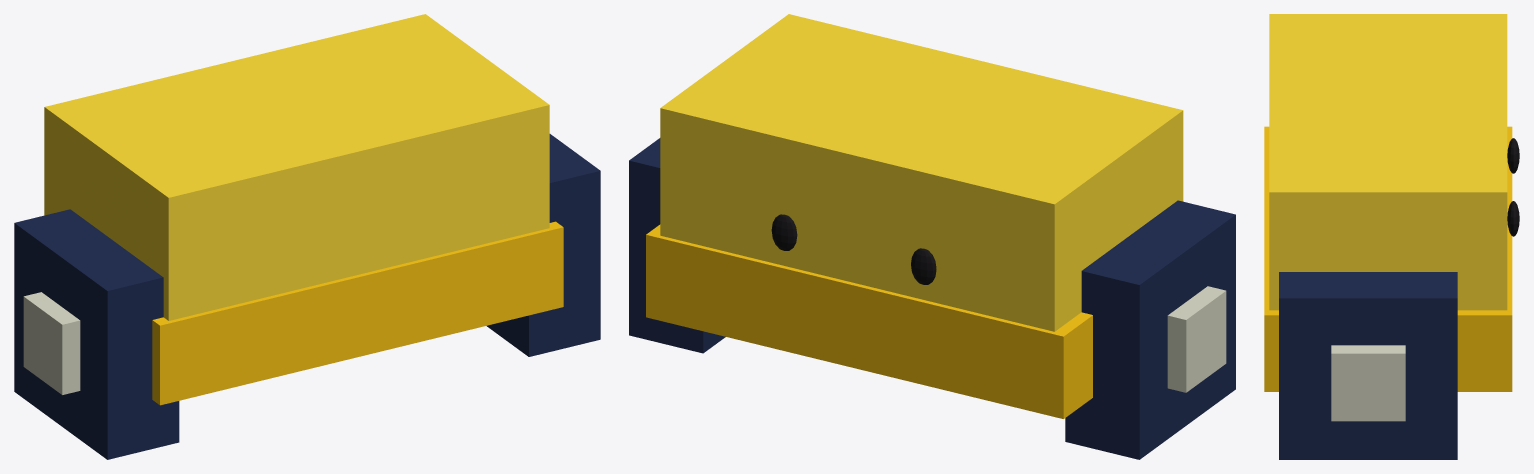
The model's file is Wheelie_Enemy.obj.
The picture shows the model from 3 angles, left to right: view 1: azimuth 30°, elevation 25°; view 2: azimuth 150°, elevation 25°; view 3: azimuth 270°, elevation 25°; orthographic projection. The views are drawn at different scales.
Parts seen in each view (by area): view 1: LowBody, LowChassis, WheelL, WheelR, HubL; view 2: LowBody, LowChassis, WheelL, WheelR, HubL, DotEyeL, DotEyeR; view 3: LowBody, WheelR, LowChassis, HubR, DotEyeL, DotEyeR.
Part boxes in pixels (x1=…): LowBody: x1=44, y1=14, x2=549, y2=320; LowChassis: x1=152, y1=221, x2=563, y2=405; WheelL: x1=14, y1=209, x2=179, y2=459; WheelR: x1=487, y1=134, x2=600, y2=356; HubL: x1=23, y1=292, x2=80, y2=394; LowBody: x1=660, y1=14, x2=1183, y2=331; LowChassis: x1=646, y1=224, x2=1092, y2=418; WheelL: x1=1065, y1=200, x2=1235, y2=459; WheelR: x1=629, y1=138, x2=725, y2=353; HubL: x1=1167, y1=286, x2=1226, y2=392; DotEyeL: x1=911, y1=248, x2=936, y2=284; DotEyeR: x1=771, y1=214, x2=797, y2=250; LowBody: x1=1269, y1=14, x2=1507, y2=310; WheelR: x1=1279, y1=272, x2=1457, y2=459; LowChassis: x1=1264, y1=126, x2=1512, y2=391; HubR: x1=1331, y1=345, x2=1405, y2=421; DotEyeL: x1=1507, y1=138, x2=1519, y2=173; DotEyeR: x1=1507, y1=201, x2=1519, y2=236.
Size of the model in its own units: 2.36 by 1.08 by 1.03.
